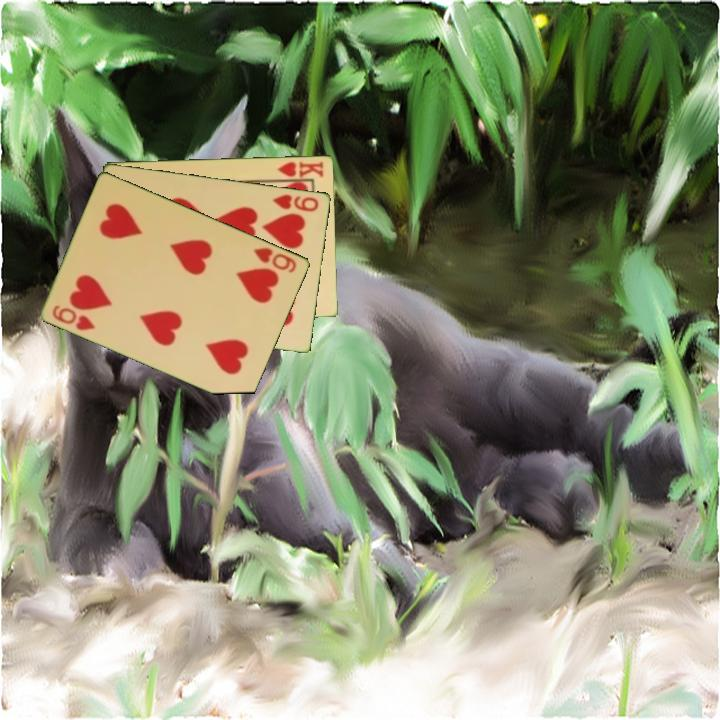6h: (250, 244, 300, 276), (49, 301, 99, 333)
9h: (269, 190, 322, 214)
Kh: (271, 158, 327, 183)
